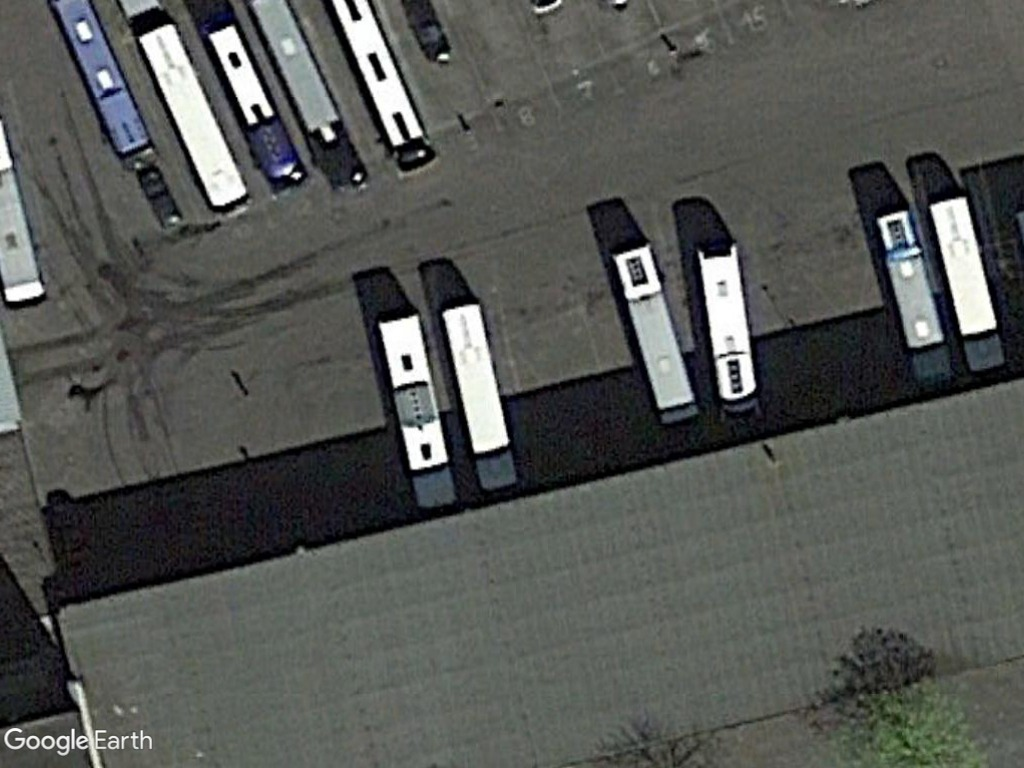bus: (134, 23, 252, 217), (197, 14, 308, 198), (371, 310, 462, 510), (606, 243, 700, 427), (868, 207, 960, 389), (436, 302, 521, 496), (925, 191, 1011, 375), (690, 237, 768, 427)
